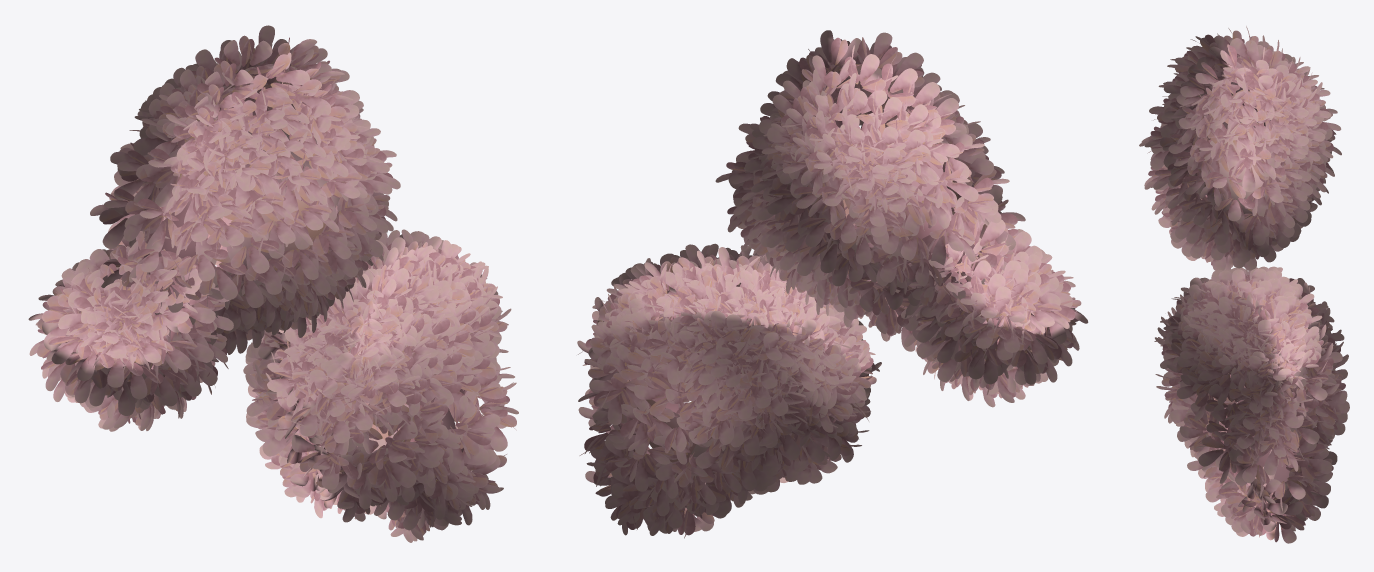
The model's file is FoliageEnsembleTree1.fbx.
3 views of the same model, side by side, from view 1: azimuth 30°, elevation 25°; view 2: azimuth 150°, elevation 25°; view 3: azimuth 270°, elevation 25° (orthographic). The views are drawn at different scales.
Parts seen in each view (by area): view 1: Box033; view 2: Box033; view 3: Box033.
Part boxes in pixels (box(x1,y1,x2,y2)): Box033: box(28, 25, 518, 542); Box033: box(577, 30, 1088, 538); Box033: box(1139, 26, 1349, 543).
Bounding box in the file's own units: 593 × 642 × 292.
